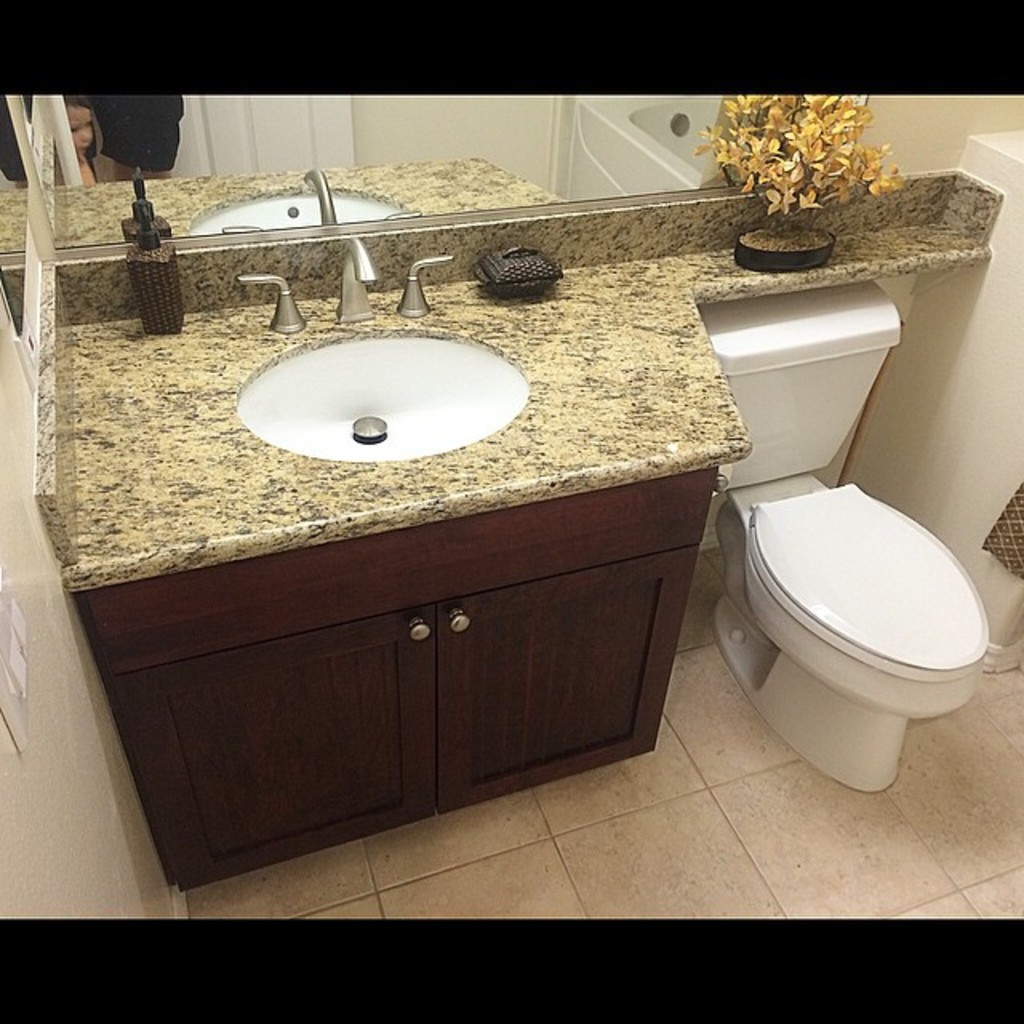tap: (337, 231, 382, 321)
